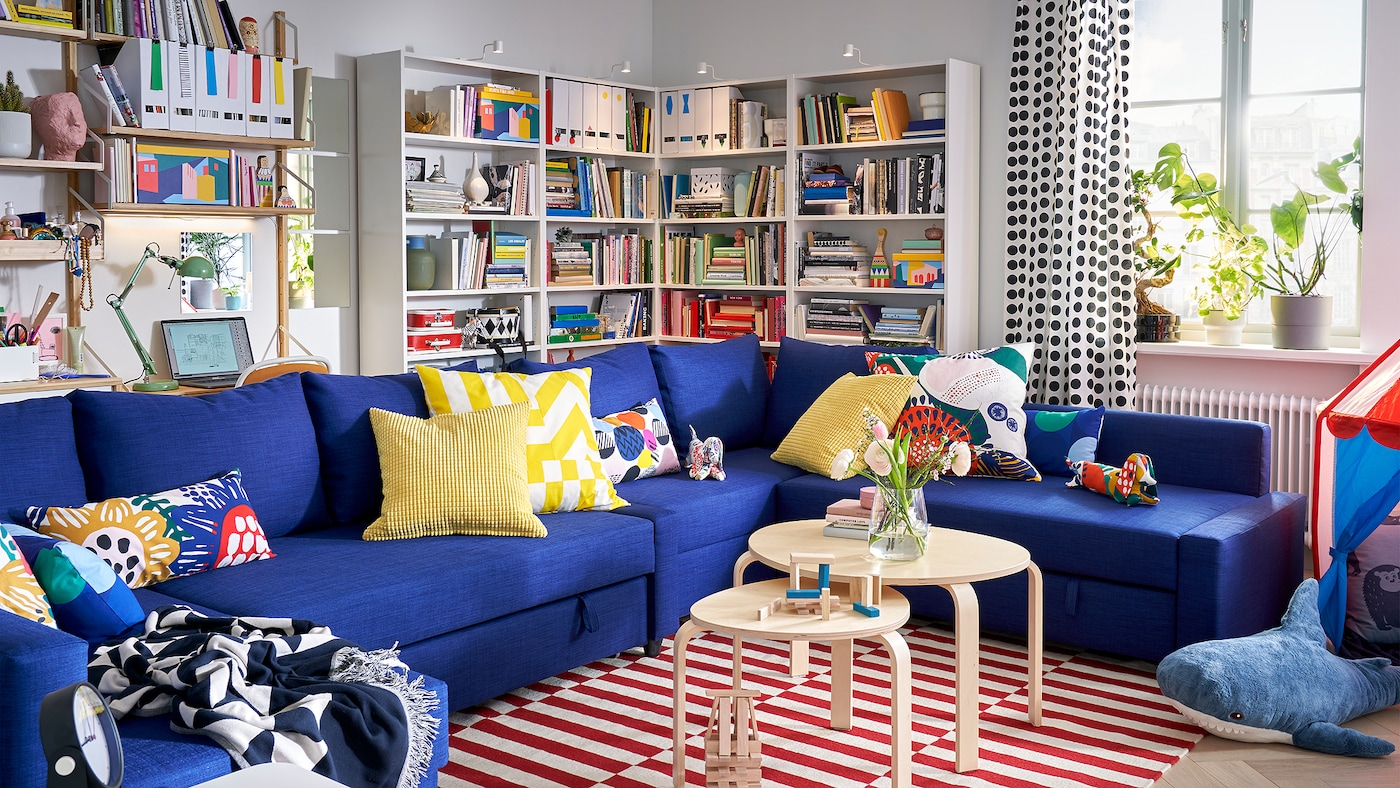biru: (5, 357, 760, 652), (1158, 588, 1400, 745)
coklat: (674, 522, 1043, 757)
hijau: (178, 257, 213, 282)
hitam: (1137, 317, 1183, 344)
kuning: (370, 410, 534, 539), (783, 376, 915, 466)
putih: (1203, 310, 1247, 346), (1, 112, 31, 156), (467, 151, 489, 200)
